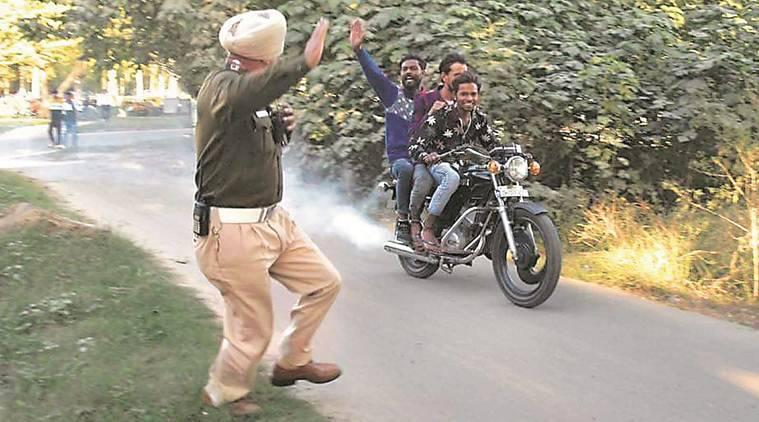nohelmet: (452, 73, 481, 113), (396, 53, 423, 93), (437, 53, 460, 96)
